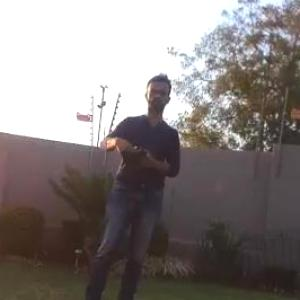follow: (65, 68, 189, 299)
